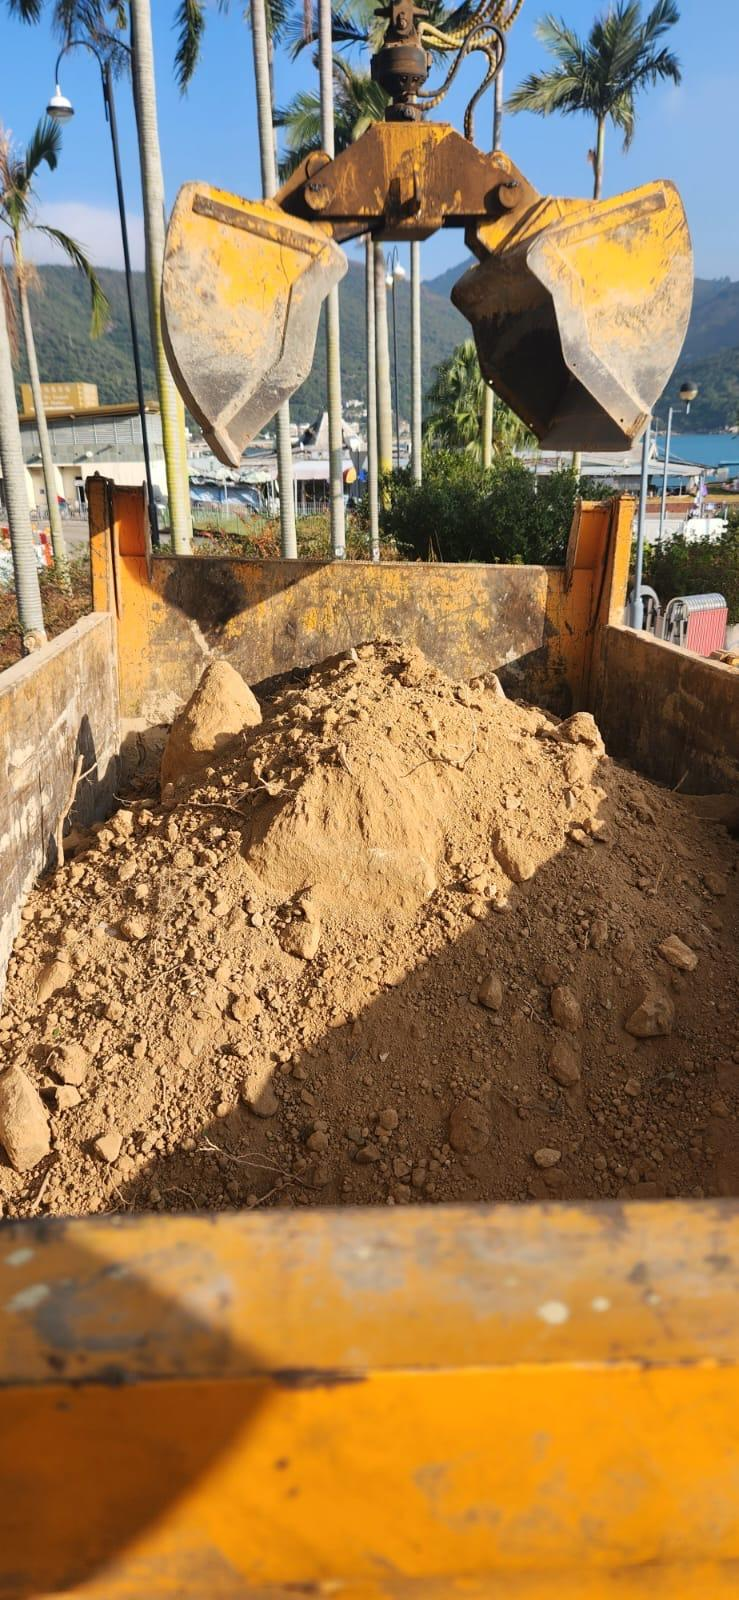dirt: (1, 634, 736, 1216)
stone: (158, 657, 263, 794), (0, 1063, 52, 1172), (624, 988, 675, 1038), (656, 933, 698, 971), (547, 1039, 580, 1087), (549, 984, 582, 1029), (475, 972, 503, 1010)
